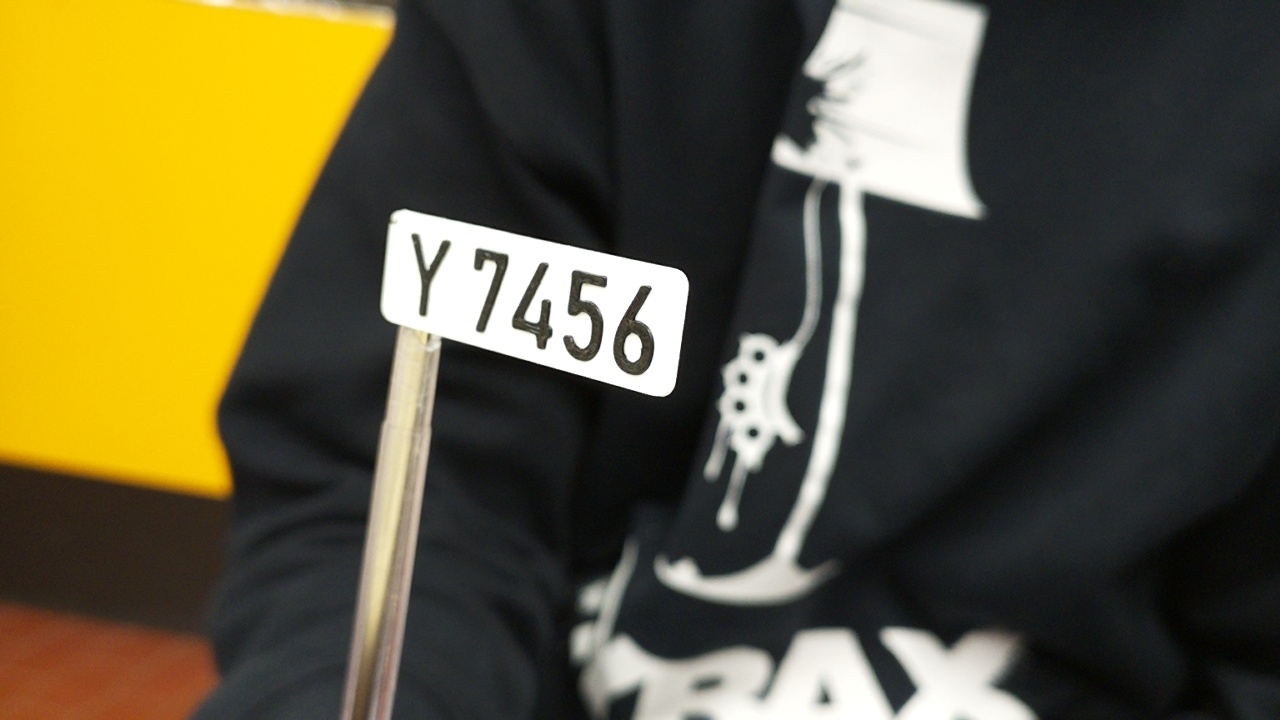license_plate: (378, 207, 690, 401)
